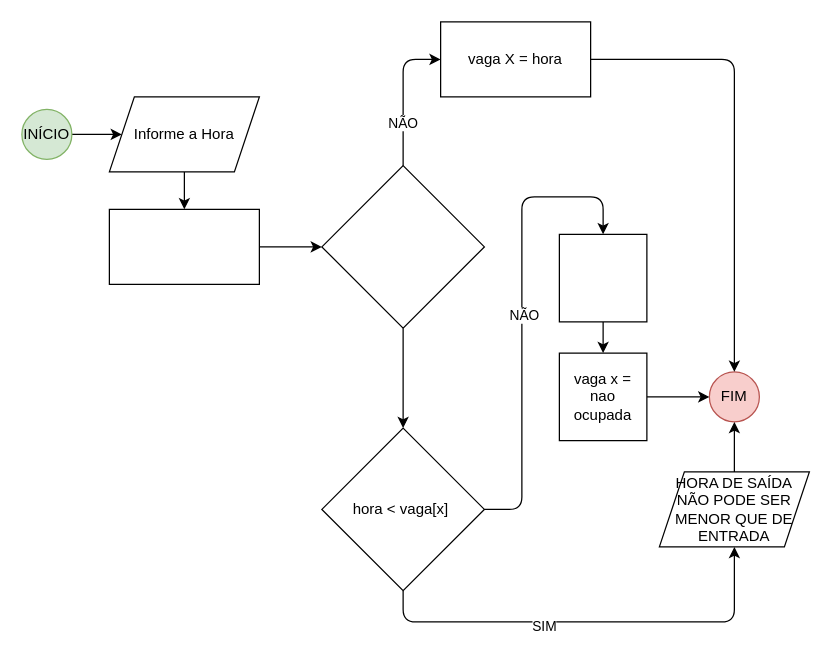
Some shapes in this 831 by 656 pixel diagram are drawn without their labels. The box of each missing label's shape, as (x1, y1, x2, y2) in pixels:
intervalo = vaga - hora: (558, 233, 647, 322)
ler hora: (108, 208, 259, 284)
É UMA VAGA OCUPADA?: (321, 164, 484, 328)
